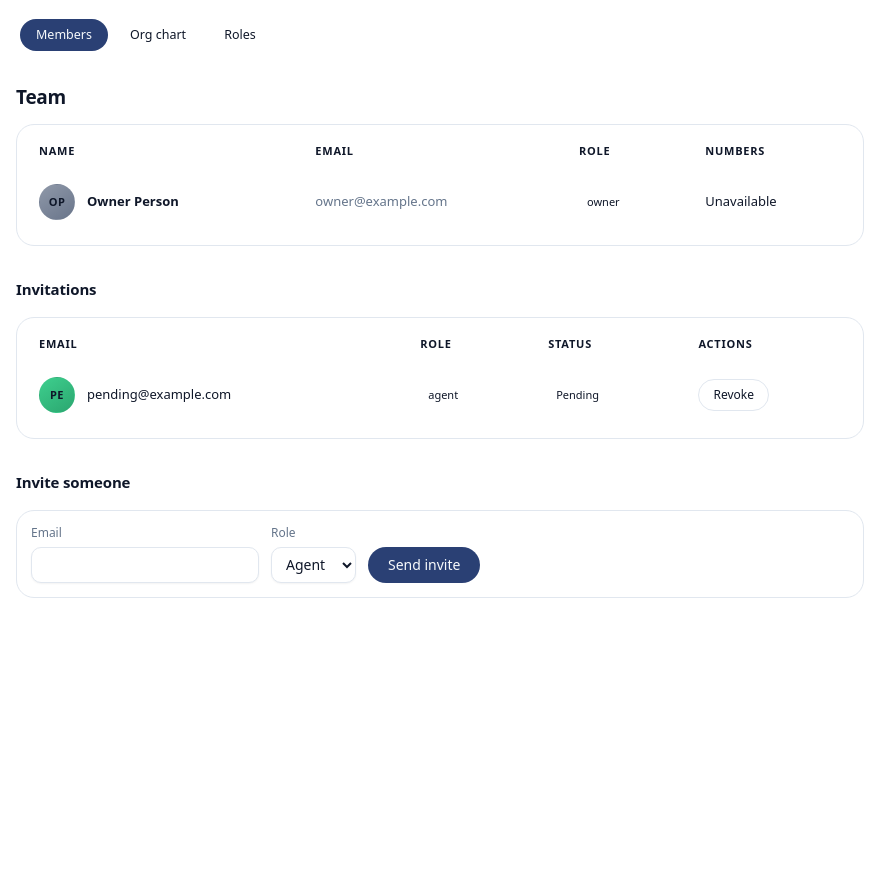
Test: TeamPage › opens a built-in role read-only and disables its Delete button
Click the tab "Roles" at (240, 35), box [208,19,272,51]
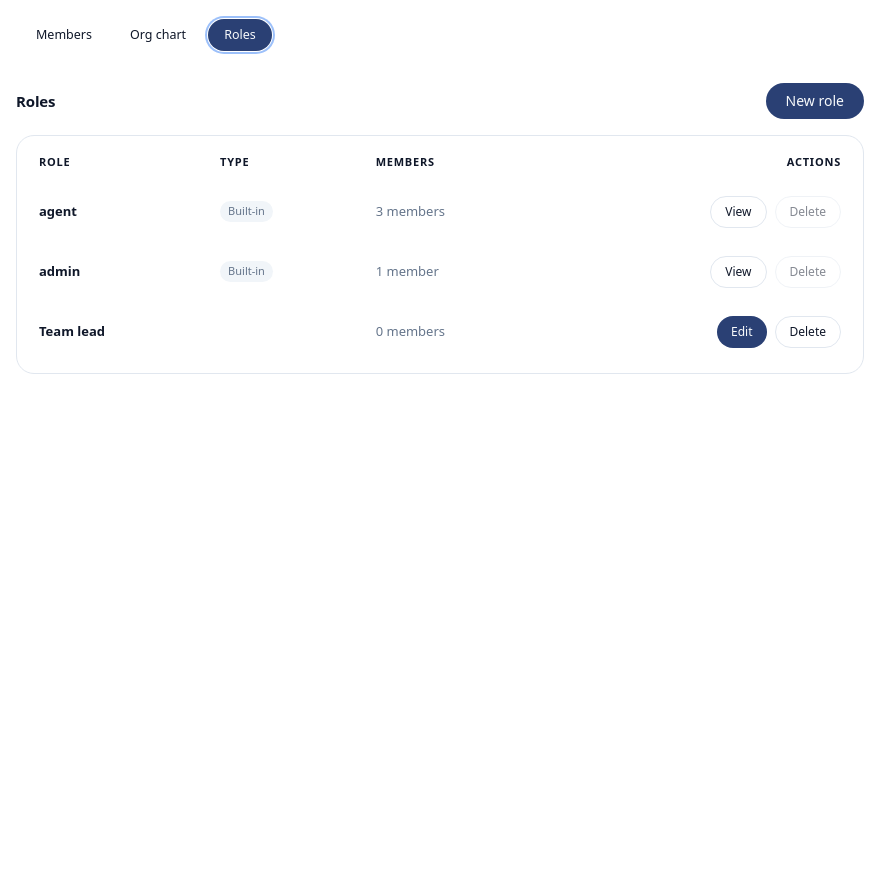
Check: the text "Team lead" is shown, box [25,304,206,358]
Click the button "View" in the row of "agent" at (738, 212), box [710,196,766,228]
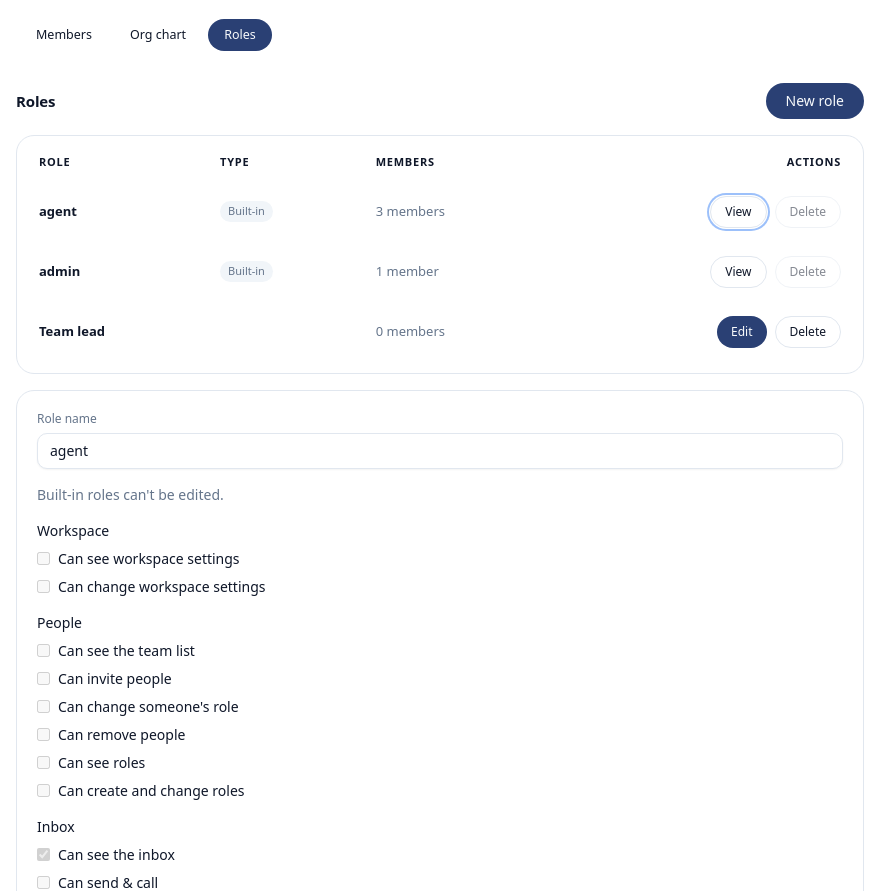
Check: the button "Delete" in the row of "agent" is disabled, box [774,196,841,228]
Check: the text "Built-in roles can't be edited." is shown, box [37,484,224,504]
